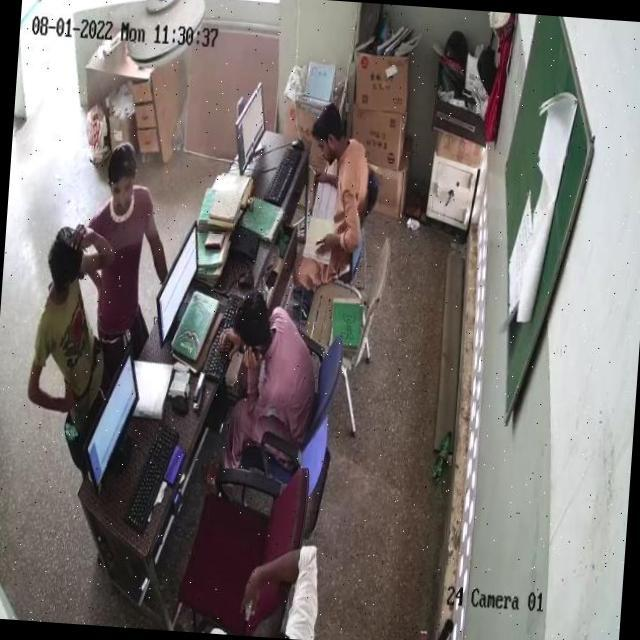person: (76, 148, 153, 352), (34, 230, 105, 420), (298, 98, 367, 283), (232, 288, 316, 432)
